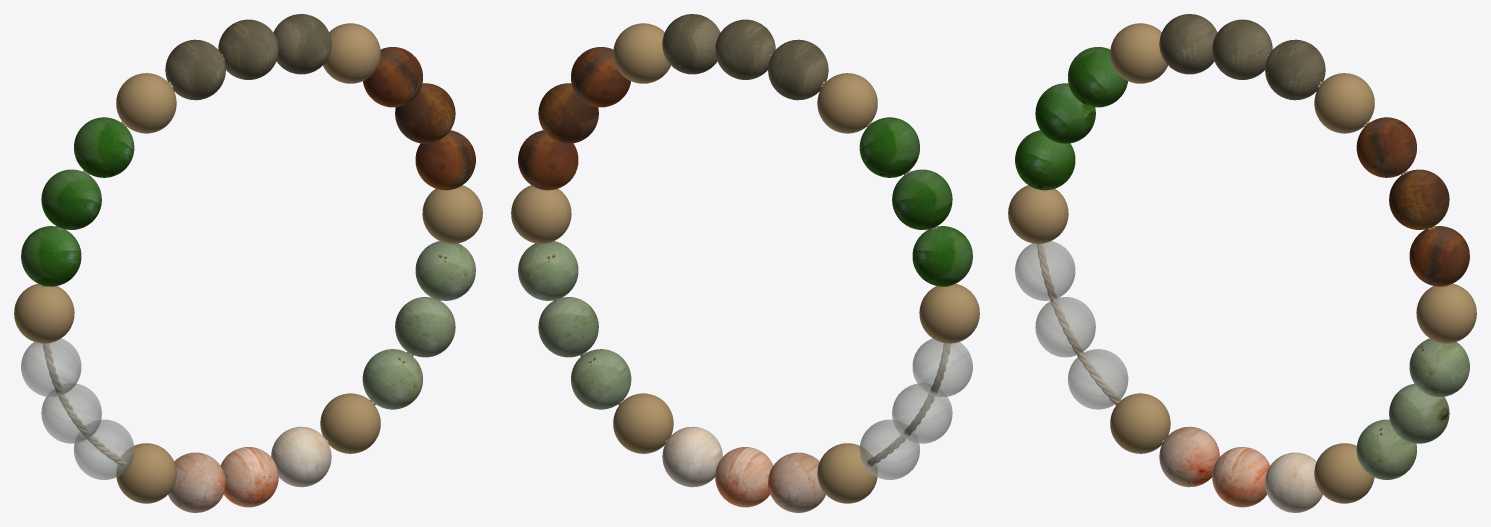
File: dhanyog.glb
The picture shows the model from 3 angles, left to right: view 1: azimuth 30°, elevation 25°; view 2: azimuth 150°, elevation 25°; view 3: azimuth 330°, elevation 25°; orthographic projection.
Visible parts, largest first — view 1: 10 jade, 22 green, 9 jade, 11 brass, 21 green, 23 brass, 8 jade, 12 pyrite, 20 green, 7 brass, 24 peach, 13 pyrite (+13 smaller); view 2: 10 jade, 22 green, 11 brass, 9 jade, 21 green, 23 brass, 8 jade, 12 pyrite, 20 green, 7 brass, 24 peach, 13 pyrite (+13 smaller); view 3: 16 eye, 4 clear, 15 brass, 17 eye, 3 brass, 5 clear, 18 eye, 14 pyrite, 6 clear, 19 brass, 2 peach, 13 pyrite (+13 smaller).
Part boxes in pixels (x1,y1,x2,y2): 10 jade: [74, 117, 134, 177]; 22 green: [362, 349, 422, 409]; 9 jade: [41, 169, 101, 229]; 11 brass: [116, 73, 176, 133]; 21 green: [395, 297, 455, 357]; 23 brass: [320, 393, 380, 453]; 8 jade: [21, 226, 81, 286]; 12 pyrite: [165, 39, 225, 100]; 20 green: [415, 241, 475, 300]; 7 brass: [14, 283, 74, 343]; 24 peach: [271, 426, 331, 487]; 13 pyrite: [218, 19, 278, 79]; 10 jade: [859, 117, 919, 177]; 22 green: [571, 349, 631, 409]; 11 brass: [817, 73, 877, 133]; 9 jade: [892, 169, 952, 229]; 21 green: [538, 297, 598, 357]; 23 brass: [613, 393, 673, 453]; 8 jade: [912, 226, 972, 286]; 12 pyrite: [768, 39, 828, 100]; 20 green: [518, 241, 578, 300]; 7 brass: [919, 283, 979, 343]; 24 peach: [662, 426, 722, 487]; 13 pyrite: [715, 19, 775, 79]; 16 eye: [1356, 117, 1416, 177]; 4 clear: [1068, 349, 1128, 409]; 15 brass: [1314, 73, 1374, 133]; 17 eye: [1389, 169, 1449, 229]; 3 brass: [1110, 393, 1170, 453]; 5 clear: [1035, 297, 1095, 357]; 18 eye: [1409, 226, 1469, 286]; 14 pyrite: [1265, 39, 1325, 100]; 6 clear: [1015, 241, 1075, 300]; 19 brass: [1416, 283, 1476, 343]; 2 peach: [1159, 426, 1219, 487]; 13 pyrite: [1212, 19, 1272, 79].
Bounding box in the file's own units: 0.0703 × 0.0703 × 0.008.
14 materials, 12 textured.
